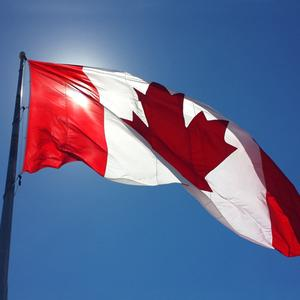Canada flag: (28, 61, 300, 265)
